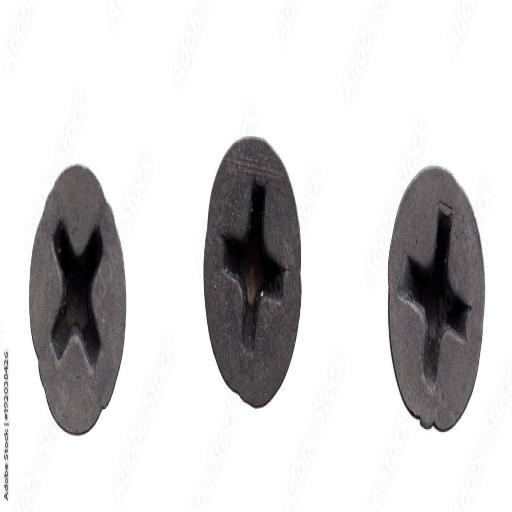Phillips: (28, 166, 128, 439), (203, 132, 301, 409), (388, 160, 487, 432)
